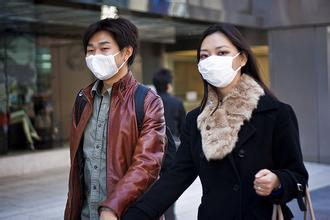OK: (200, 42, 241, 83), (87, 39, 126, 81)
